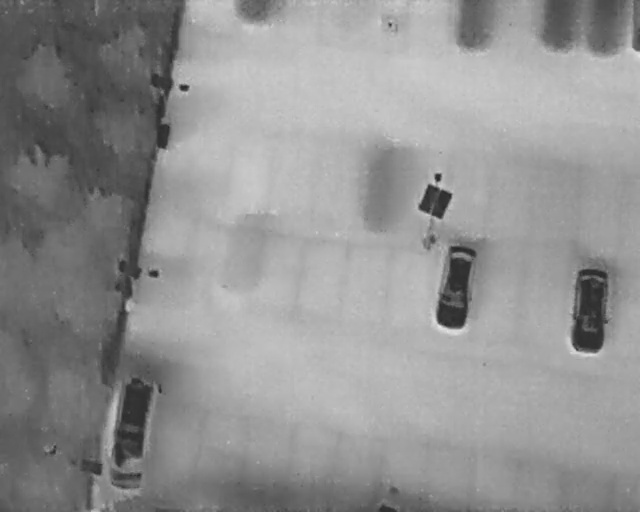Car: (104, 373, 158, 492), (431, 240, 481, 332), (568, 263, 616, 357)
